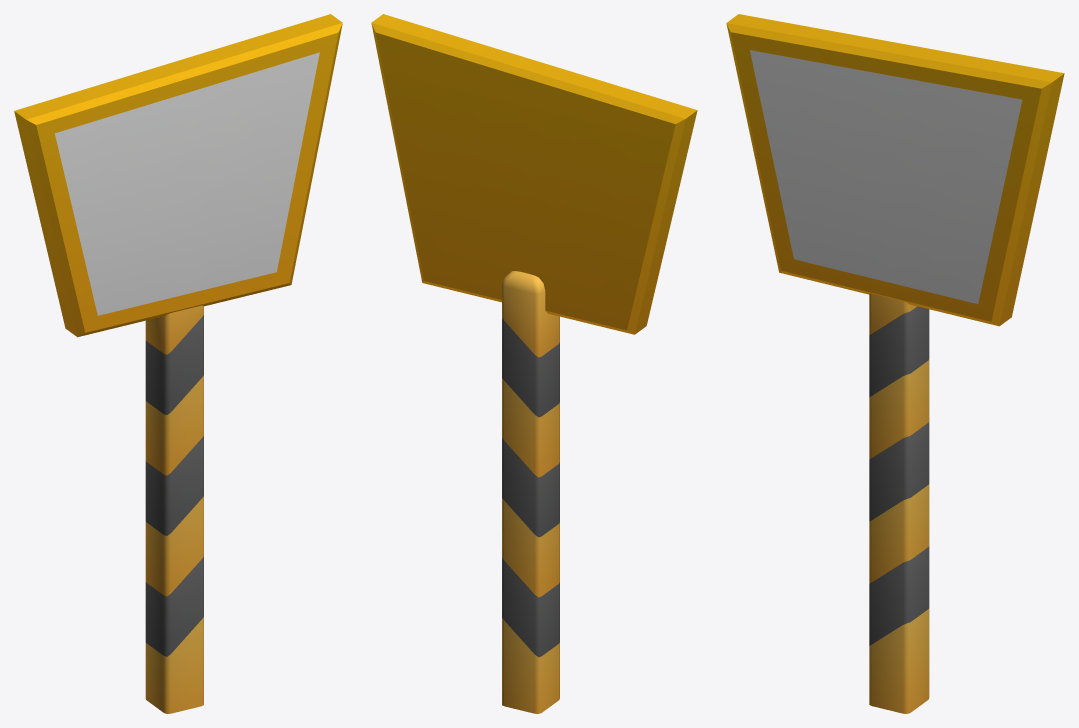
Rendered from highScore.fbx.
3 views of the same model, side by side, from view 1: azimuth 30°, elevation 25°; view 2: azimuth 150°, elevation 25°; view 3: azimuth 330°, elevation 25° (orthographic). The views are drawn at different scales.
Parts seen in each view (by area): view 1: highScore; view 2: highScore; view 3: highScore.
Part boxes in pixels (bbox=[...]): highScore: bbox=[14, 14, 342, 713]; highScore: bbox=[371, 14, 697, 713]; highScore: bbox=[726, 14, 1064, 713].
Size of the model in its own units: 127 by 248 by 16.73.
